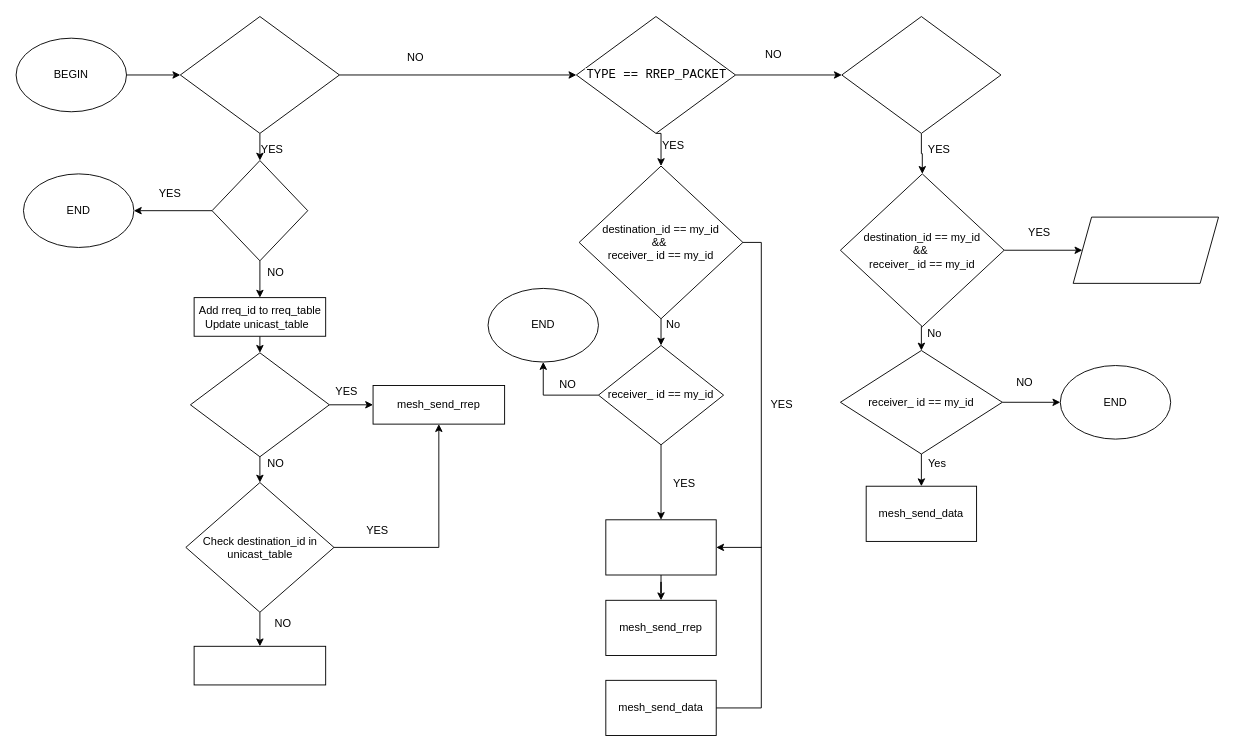
Some shapes in this 1235 by 752 pixel diagram are drawn without their labels. The centre of each missing label's shape, as x and y in pixels:
Check rreq_id in rreq_table?: point 259,210
destination_id == my_id: point 259,404
mesh_send_rreq: point 259,665
Print: "Received Data: point 1145,249
TYPE == DATA_PACKET: point 921,74
TYPE == RREQ_PACKET: point 259,74
update unicast_table: point 660,547
